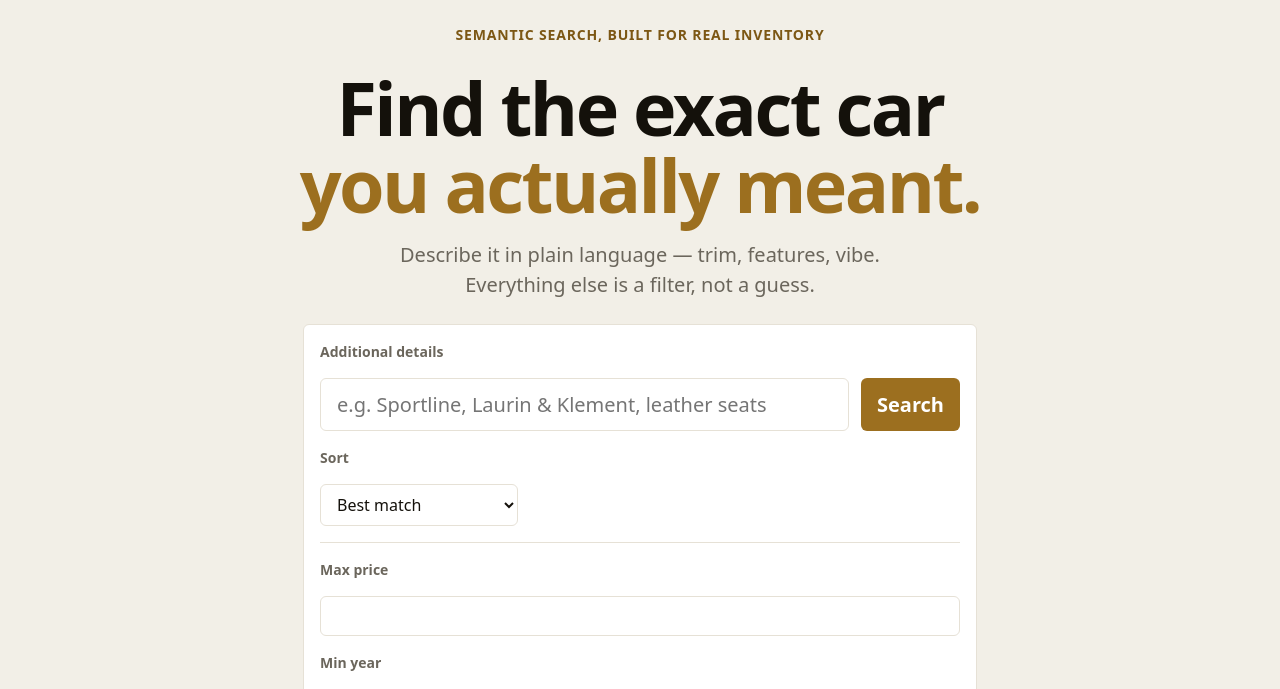
search page › applies the .tabular monospace treatment to a result card's price and mileage elements (R3.2, BOH-29)
The width and height of the screenshot is (1280, 689).
Step 1. Type "reliable family suv under 30k" into the field labelled "Additional details" → (584, 404), box 320,378 -> 849,430
(page scrolled)
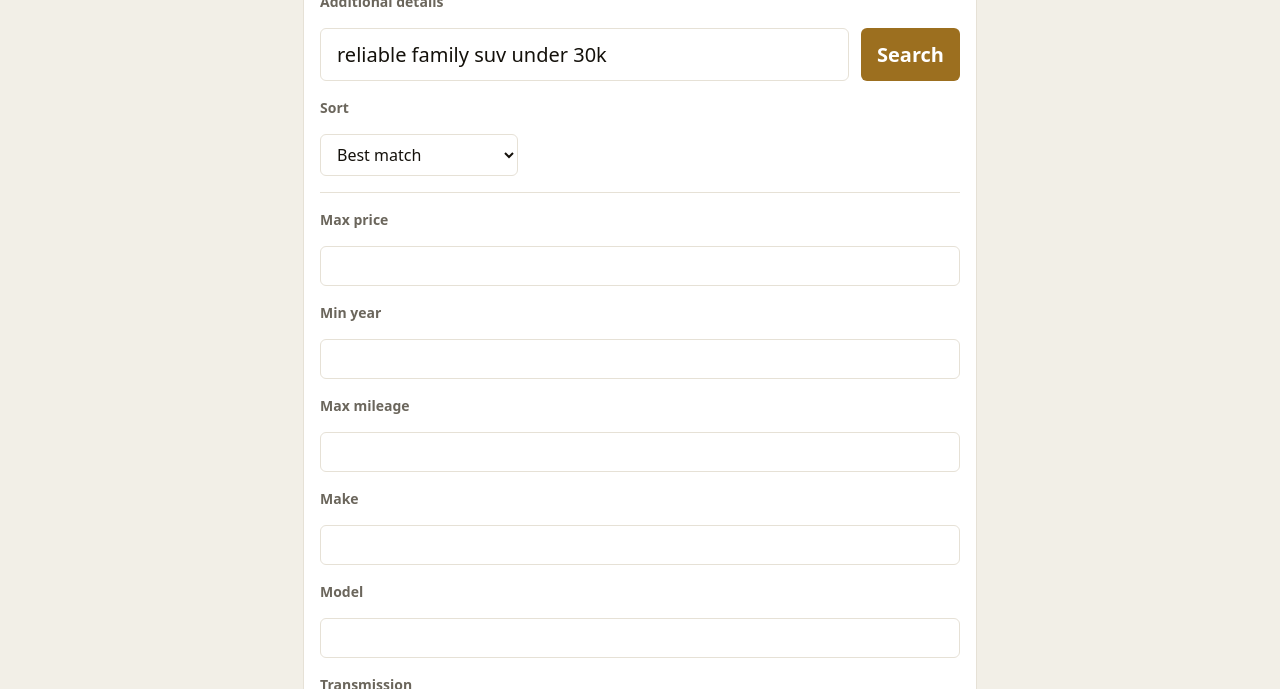
Step 2. Submit the form "Additional details"
(page scrolled)
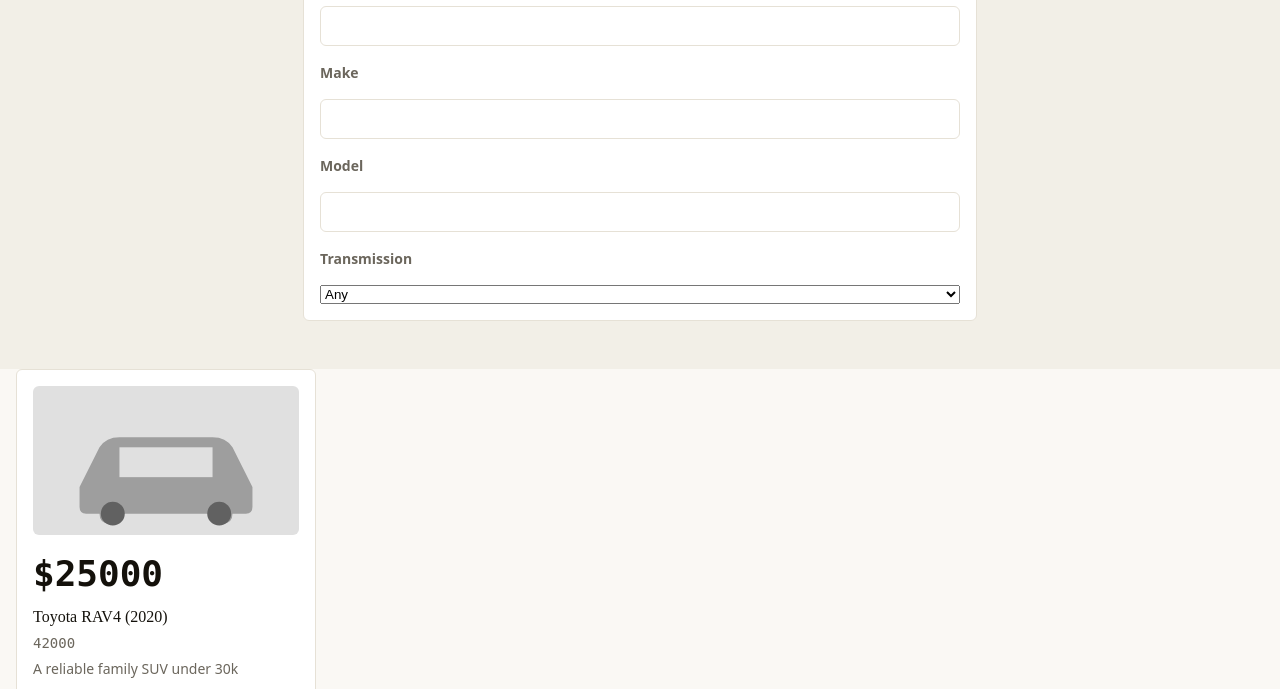
Now the text "Toyota" is shown, box 33,608 -> 168,625
Now the text "$25000" is shown, box 33,553 -> 163,594
Now the text "42000" is shown, box 33,635 -> 75,651
